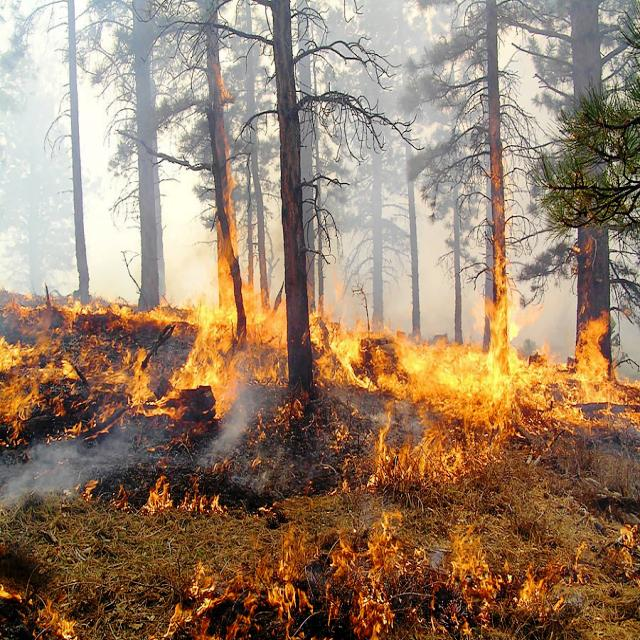api: (333, 311, 630, 422), (173, 256, 289, 391), (174, 536, 305, 640), (330, 516, 398, 638), (5, 307, 64, 433), (376, 432, 512, 485), (447, 529, 499, 629), (491, 184, 527, 317), (69, 288, 175, 328), (120, 351, 176, 419), (61, 343, 121, 390), (309, 300, 336, 387), (222, 161, 245, 255), (132, 476, 184, 517), (517, 569, 551, 614), (44, 608, 80, 640), (219, 74, 235, 104)
asap: (1, 437, 105, 514), (208, 392, 259, 471)
